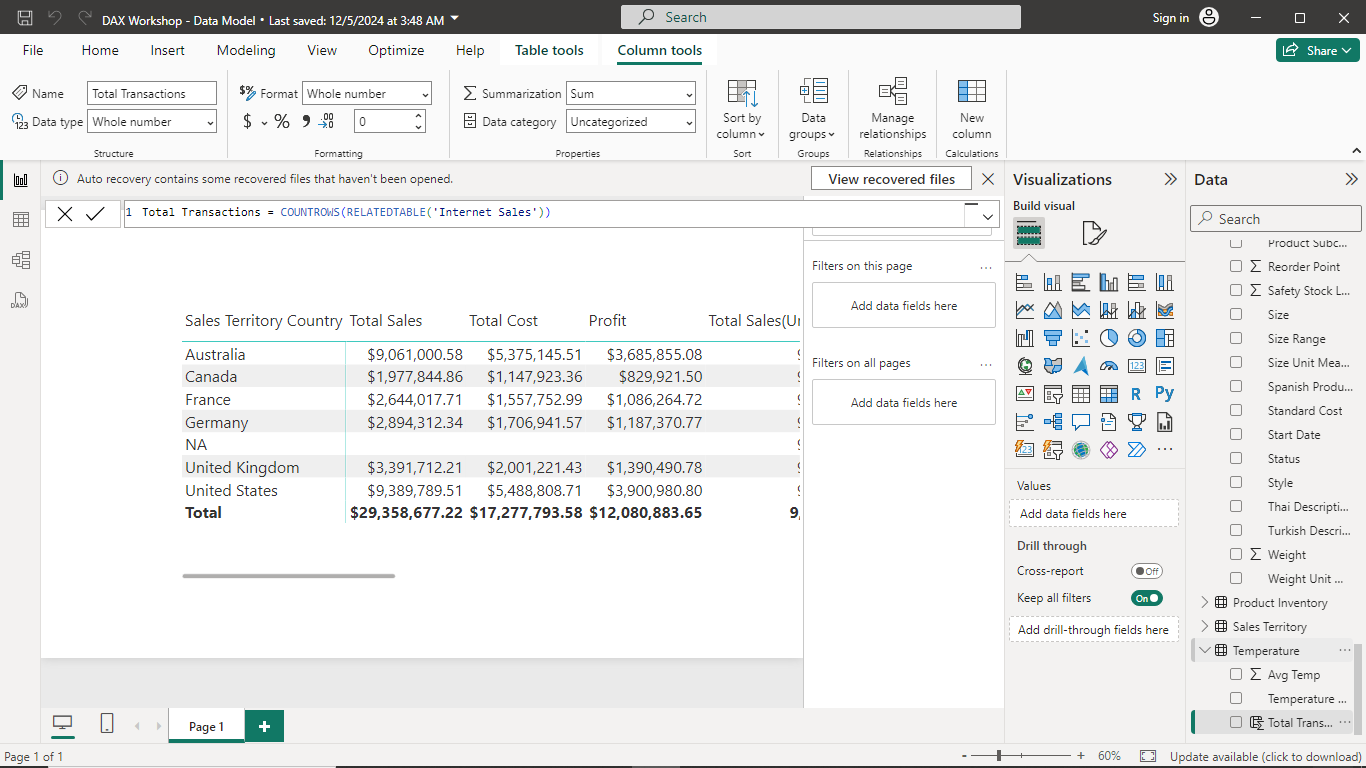

What the dashboard file says about the page in this screenshot:
{"tool":"powerbi","page":{"name":"Page 1","canvas":[1280,720],"ordinal":0},"visuals":[{"type":"pivotTable","fields":{"Values":["Internet Sales.Total Sales","Internet Sales.Total Cost","Internet Sales.Profit","Internet Sales.Total Sales(United States)","Internet Sales.Prorgin Margin","Internet Sales.YTD sales","Internet Sales.Total Sales(Canada)","Internet Sales.Total Sales(All countries)","Internet Sales.Fiscal YTD Sales","Internet Sales.YTD Sales(weekdays)"],"Rows":["Sales Territory.Sales Territory Country","Date.Year","Date.Day Number Of Week"]},"box":[231.8,126,1048.2,465.3],"z":1}]}

Visuals, with their boxes on the page's 1280x720 design canvas (x1, y1, x2, y2). These are canvas units, not pixel positions in the 1366x768 screenshot, which may show the page scaled, cropped or inside an application window:
pivotTable - Internet Sales.Total Sales x Internet Sales.Total Cost: (232,126,1280,591)
